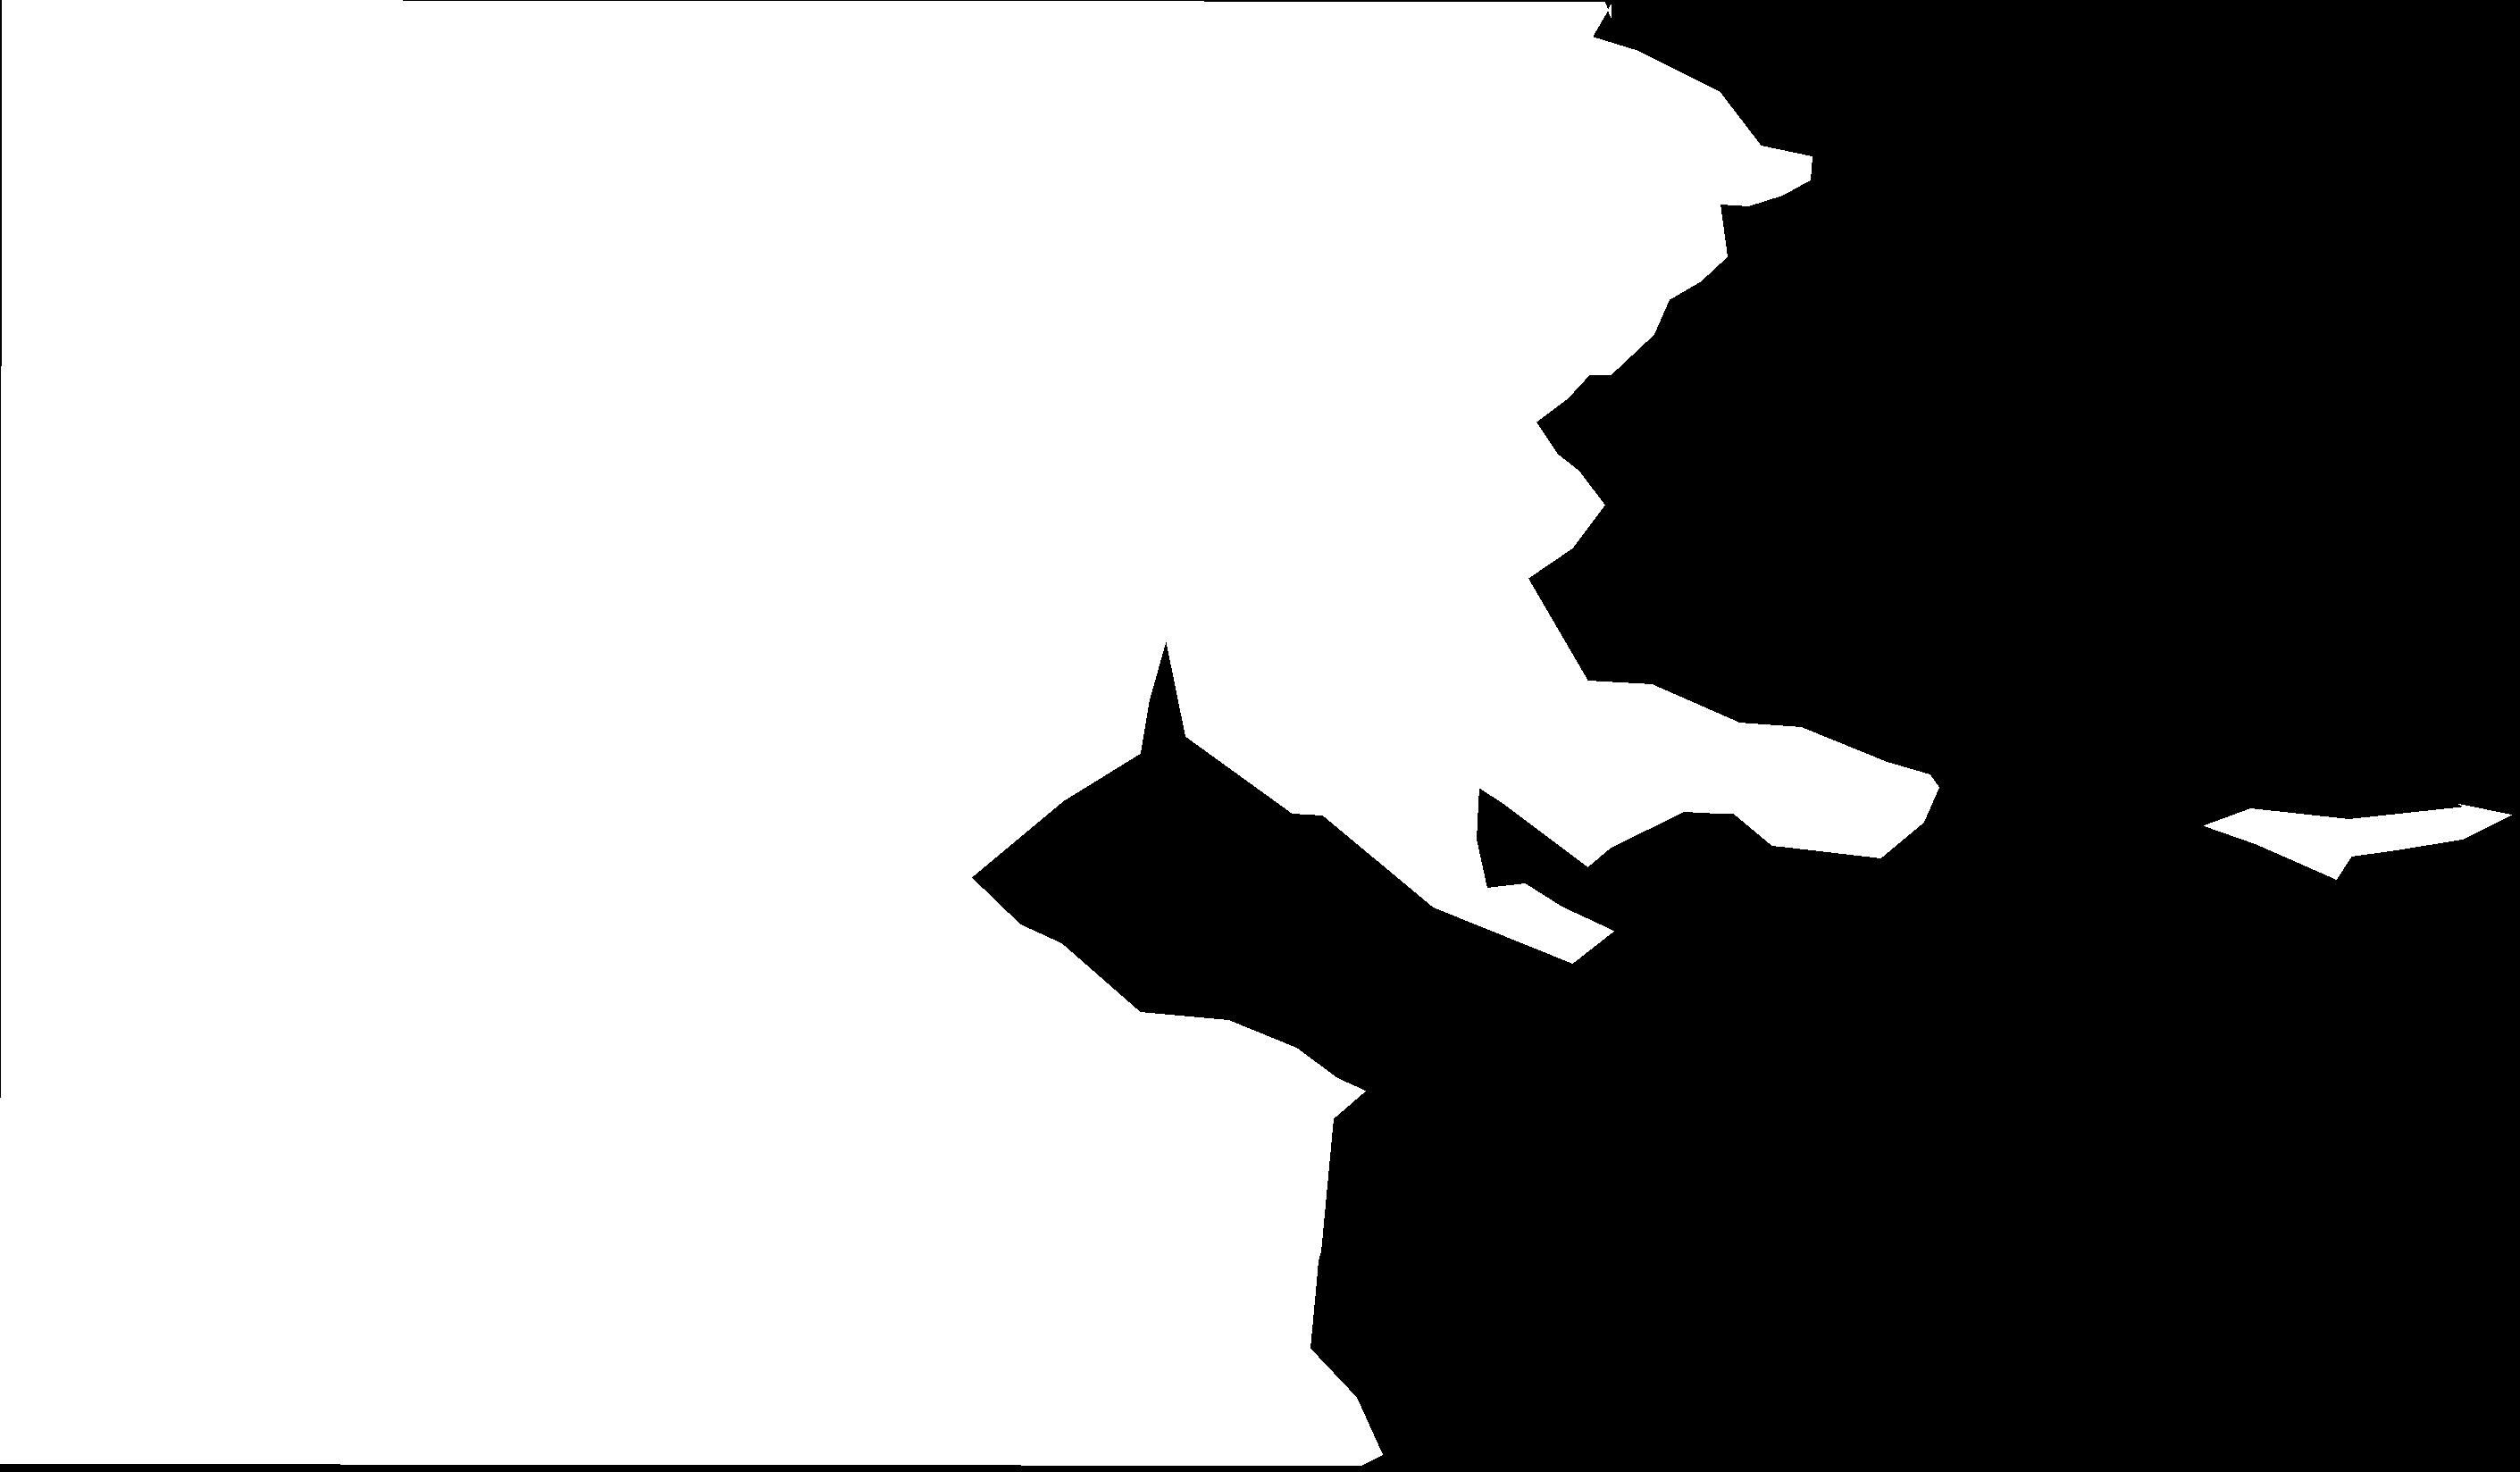Fire: (1043, 23, 1973, 1472)
